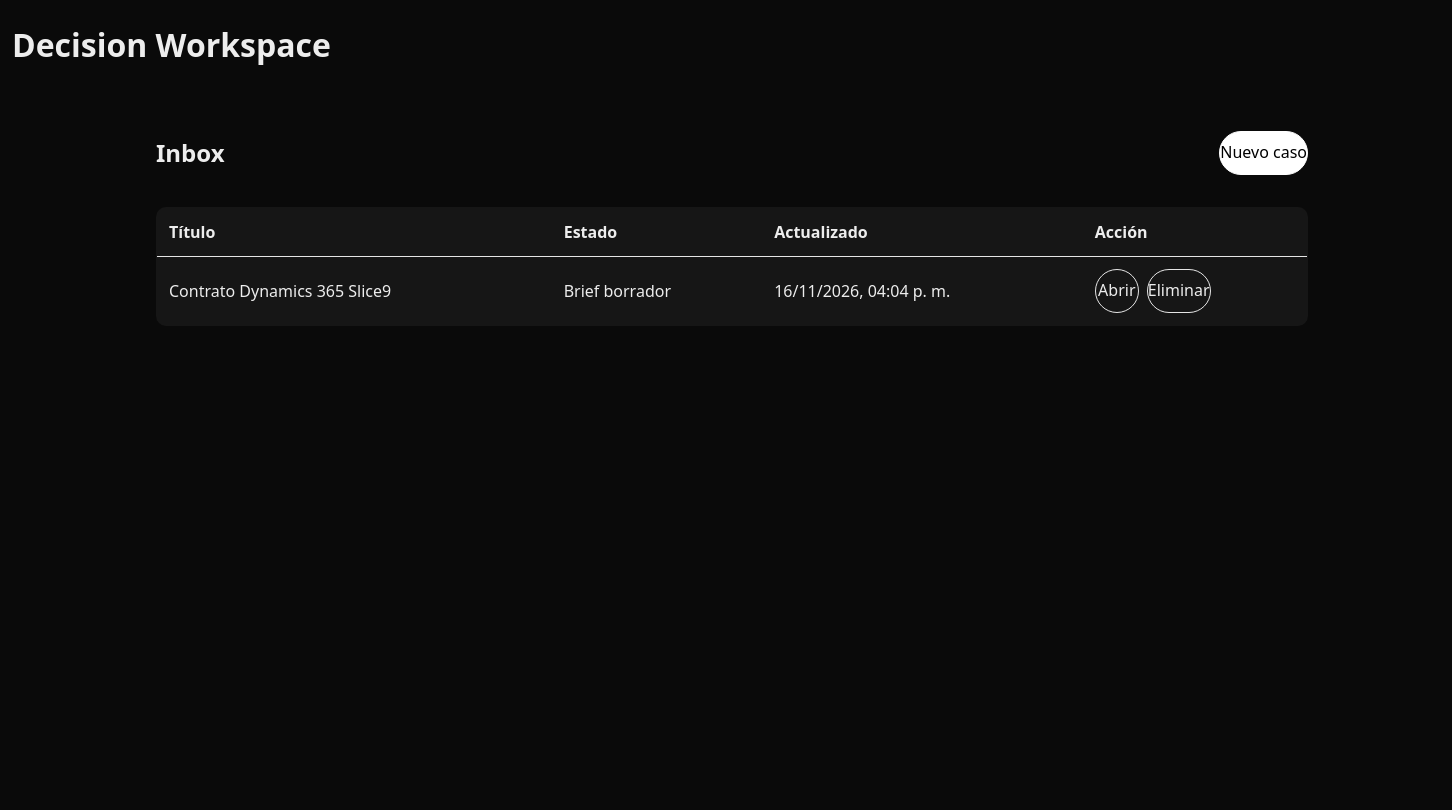
Test: slice9 brief ui › shows generate action and does not autogenerate
Click the button "Abrir": point(1117, 291) [1095, 269, 1139, 313]
(page scrolled)
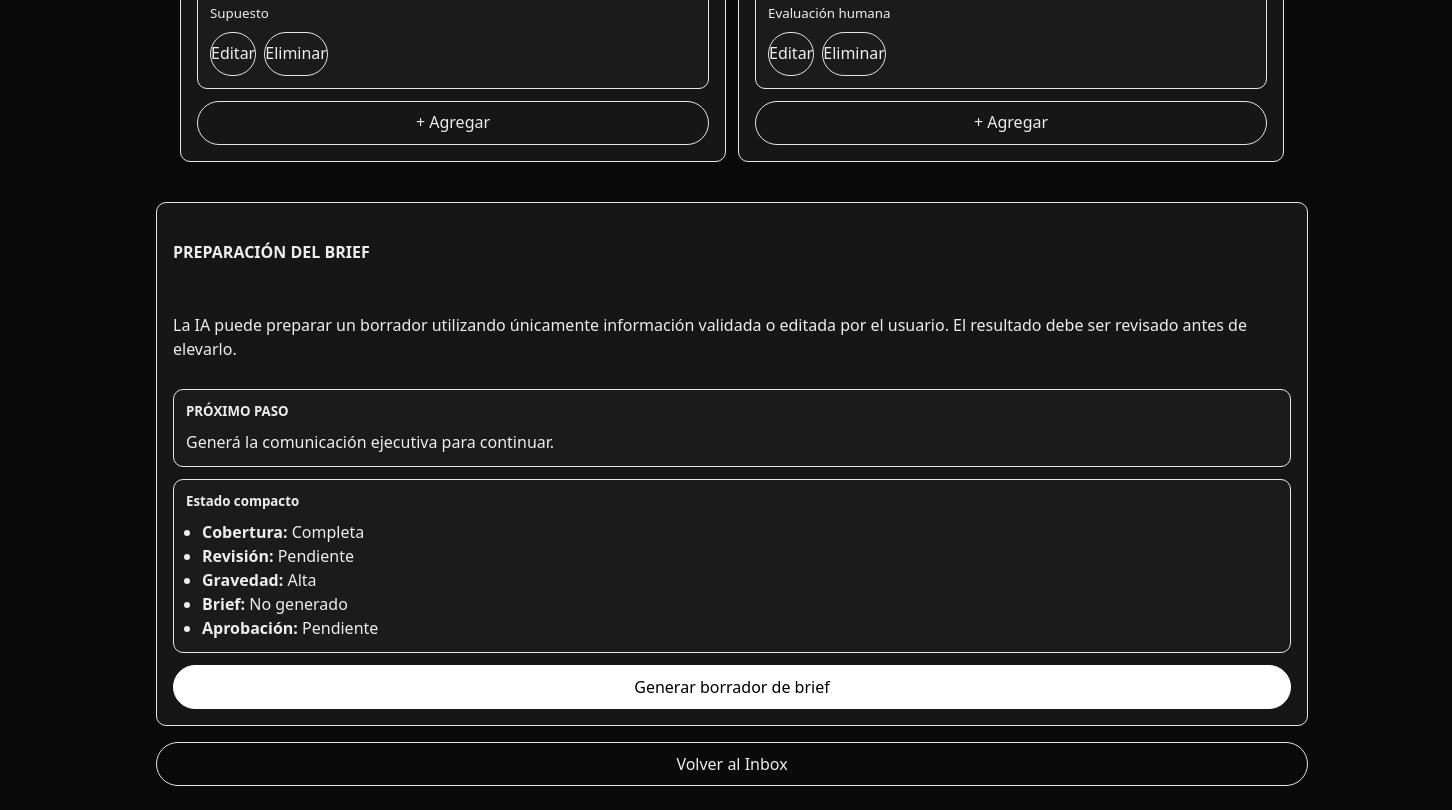
Expected: the button "Generar borrador de brief" is shown, [173, 665, 1291, 709]
